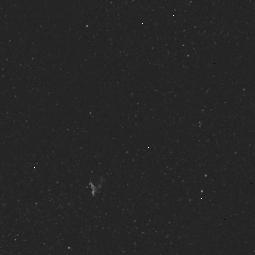debris: (83, 170, 111, 202)
